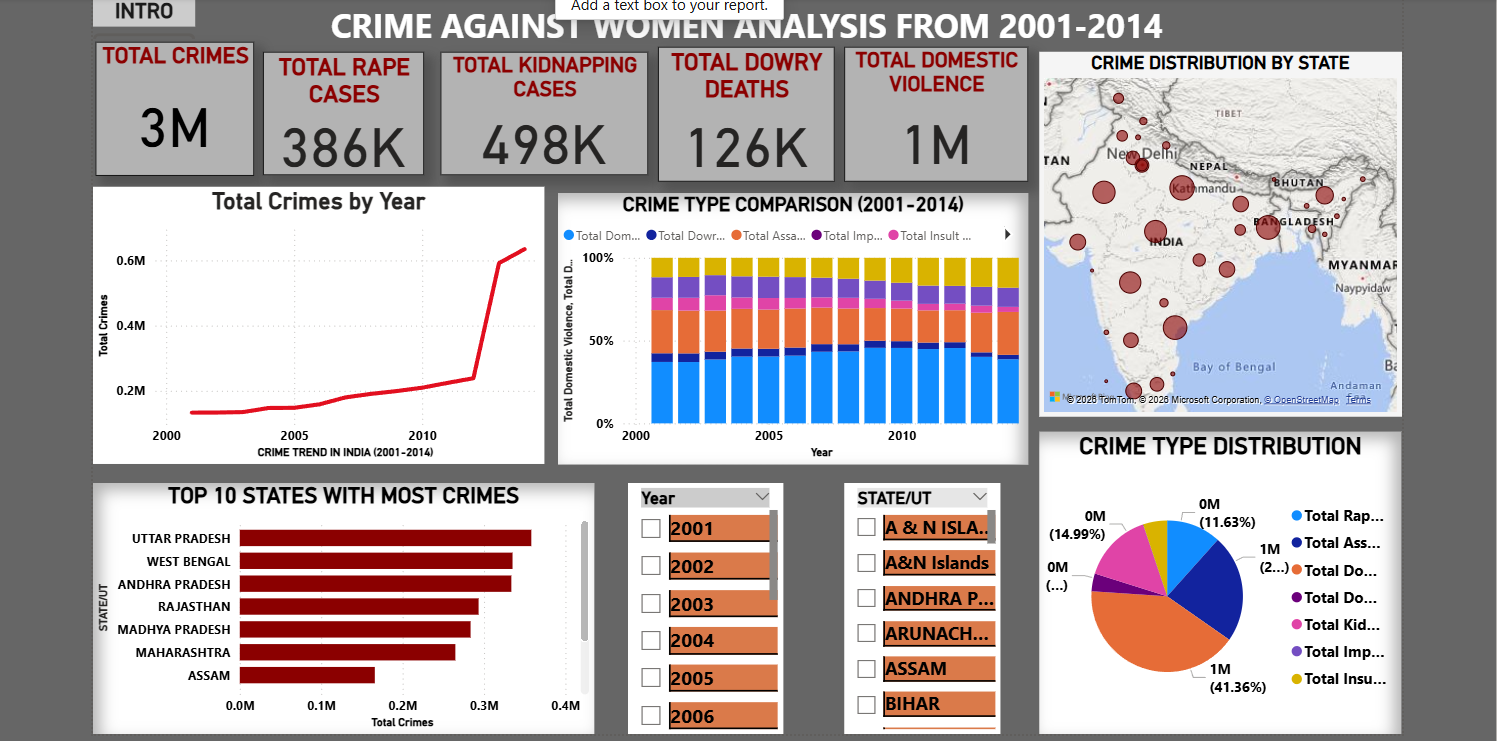

What the dashboard file says about the page in this screenshot:
{"tool":"powerbi","page":{"name":"CRIME AGAINST WOMEN DASHBOARD","canvas":[1280,720],"ordinal":8},"visuals":[{"type":"textbox","box":[79.5,0,1120.1,85.6],"z":0},{"type":"card","title":"TOTAL CRIMES","fields":{"Values":["crimes_against_women_2001-2014.Total Crimes"]},"box":[2.4,42.8,155.3,130.8],"z":1},{"type":"card","title":"TOTAL RAPE CASES","fields":{"Values":["crimes_against_women_2001-2014.Total Rape Cases"]},"box":[166.3,52.6,157.7,121.1],"z":2},{"type":"card","title":"TOTAL KIDNAPPING CASES","fields":{"Values":["crimes_against_women_2001-2014.Total Kidnapping Cases"]},"box":[339.9,52.6,203,121.1],"z":3},{"type":"card","title":"TOTAL DOWRY DEATHS","fields":{"Values":["crimes_against_women_2001-2014.Total Dowry Deaths"]},"box":[552.7,47.7,172.4,132.1],"z":4},{"type":"card","title":"TOTAL DOMESTIC VIOLENCE","fields":{"Values":["crimes_against_women_2001-2014.Total Domestic Violence"]},"box":[734.9,47.7,179.8,132.1],"z":5},{"type":"lineChart","fields":{"Category":["crimes_against_women_2001-2014.Year"],"Y":["crimes_against_women_2001-2014.Total Crimes"]},"box":[0,184.6,441.4,271.5],"z":6},{"type":"hundredPercentStackedColumnChart","title":"CRIME TYPE COMPARISON  (2001-2014)","fields":{"Category":["crimes_against_women_2001-2014.Year"],"Y":["crimes_against_women_2001-2014.Total Domestic Violence","crimes_against_women_2001-2014.Total Dowry Deaths","crimes_against_women_2001-2014.Total Assault Cases","crimes_against_women_2001-2014.Total Importation of Girls","crimes_against_women_2001-2014.Total Insult to Modesty","crimes_against_women_2001-2014.Total Rape Cases","crimes_against_women_2001-2014.Total Kidnapping Cases"]},"box":[454.9,190.8,459.8,265.4],"z":7},{"type":"clusteredBarChart","title":"TOP 10 STATES WITH MOST CRIMES","fields":{"Category":["crimes_against_women_2001-2014.STATE/UT"],"Y":["crimes_against_women_2001-2014.Total Crimes"]},"box":[0,474.5,490.4,245.8],"z":8},{"type":"map","title":"CRIME DISTRIBUTION  BY STATE","fields":{"Category":["crimes_against_women_2001-2014.STATE/UT"],"Size":["crimes_against_women_2001-2014.Total Crimes"]},"box":[925.7,52.6,354.6,357.1],"z":9},{"type":"pieChart","title":"CRIME TYPE DISTRIBUTION","fields":{"Y":["crimes_against_women_2001-2014.Total Rape Cases","crimes_against_women_2001-2014.Total Assault Cases","crimes_against_women_2001-2014.Total Domestic Violence","crimes_against_women_2001-2014.Total Dowry Deaths","crimes_against_women_2001-2014.Total Kidnapping Cases","crimes_against_women_2001-2014.Total Importation of Girls","crimes_against_women_2001-2014.Total Insult to Modesty"]},"box":[925.7,424.3,354.6,295.9],"z":10},{"type":"slicer","fields":{"Values":["crimes_against_women_2001-2014.Year"]},"box":[523.4,474.5,151.6,245.8],"z":11},{"type":"slicer","fields":{"Values":["crimes_against_women_2001-2014.STATE/UT"]},"box":[734.9,474.5,152.9,245.8],"z":12},{"type":"actionButton","title":"INTRO","box":[0,0,100,40],"z":13}]}

Visuals, with their boxes on the page's 1280x720 design canvas (x1, y1, x2, y2). These are canvas units, not pixel positions in the 1497x741 screenshot, which may show the page scaled, cropped or inside an application window:
textbox: select_region(80, 0, 1200, 86)
"TOTAL CRIMES" card: select_region(2, 43, 158, 174)
"TOTAL RAPE CASES" card: select_region(166, 53, 324, 174)
"TOTAL KIDNAPPING CASES" card: select_region(340, 53, 543, 174)
"TOTAL DOWRY DEATHS" card: select_region(553, 48, 725, 180)
"TOTAL DOMESTIC VIOLENCE" card: select_region(735, 48, 915, 180)
lineChart - crimes_against_women_2001-2014.Year x crimes_against_women_2001-2014.Total Crimes: select_region(0, 185, 441, 456)
"CRIME TYPE COMPARISON  (2001-2014)" hundredPercentStackedColumnChart: select_region(455, 191, 915, 456)
"TOP 10 STATES WITH MOST CRIMES" clusteredBarChart: select_region(0, 474, 490, 720)
"CRIME DISTRIBUTION  BY STATE" map: select_region(926, 53, 1280, 410)
"CRIME TYPE DISTRIBUTION" pieChart: select_region(926, 424, 1280, 720)
slicer - crimes_against_women_2001-2014.Year: select_region(523, 474, 675, 720)
slicer - crimes_against_women_2001-2014.STATE/UT: select_region(735, 474, 888, 720)
"INTRO" actionButton: select_region(0, 0, 100, 40)
